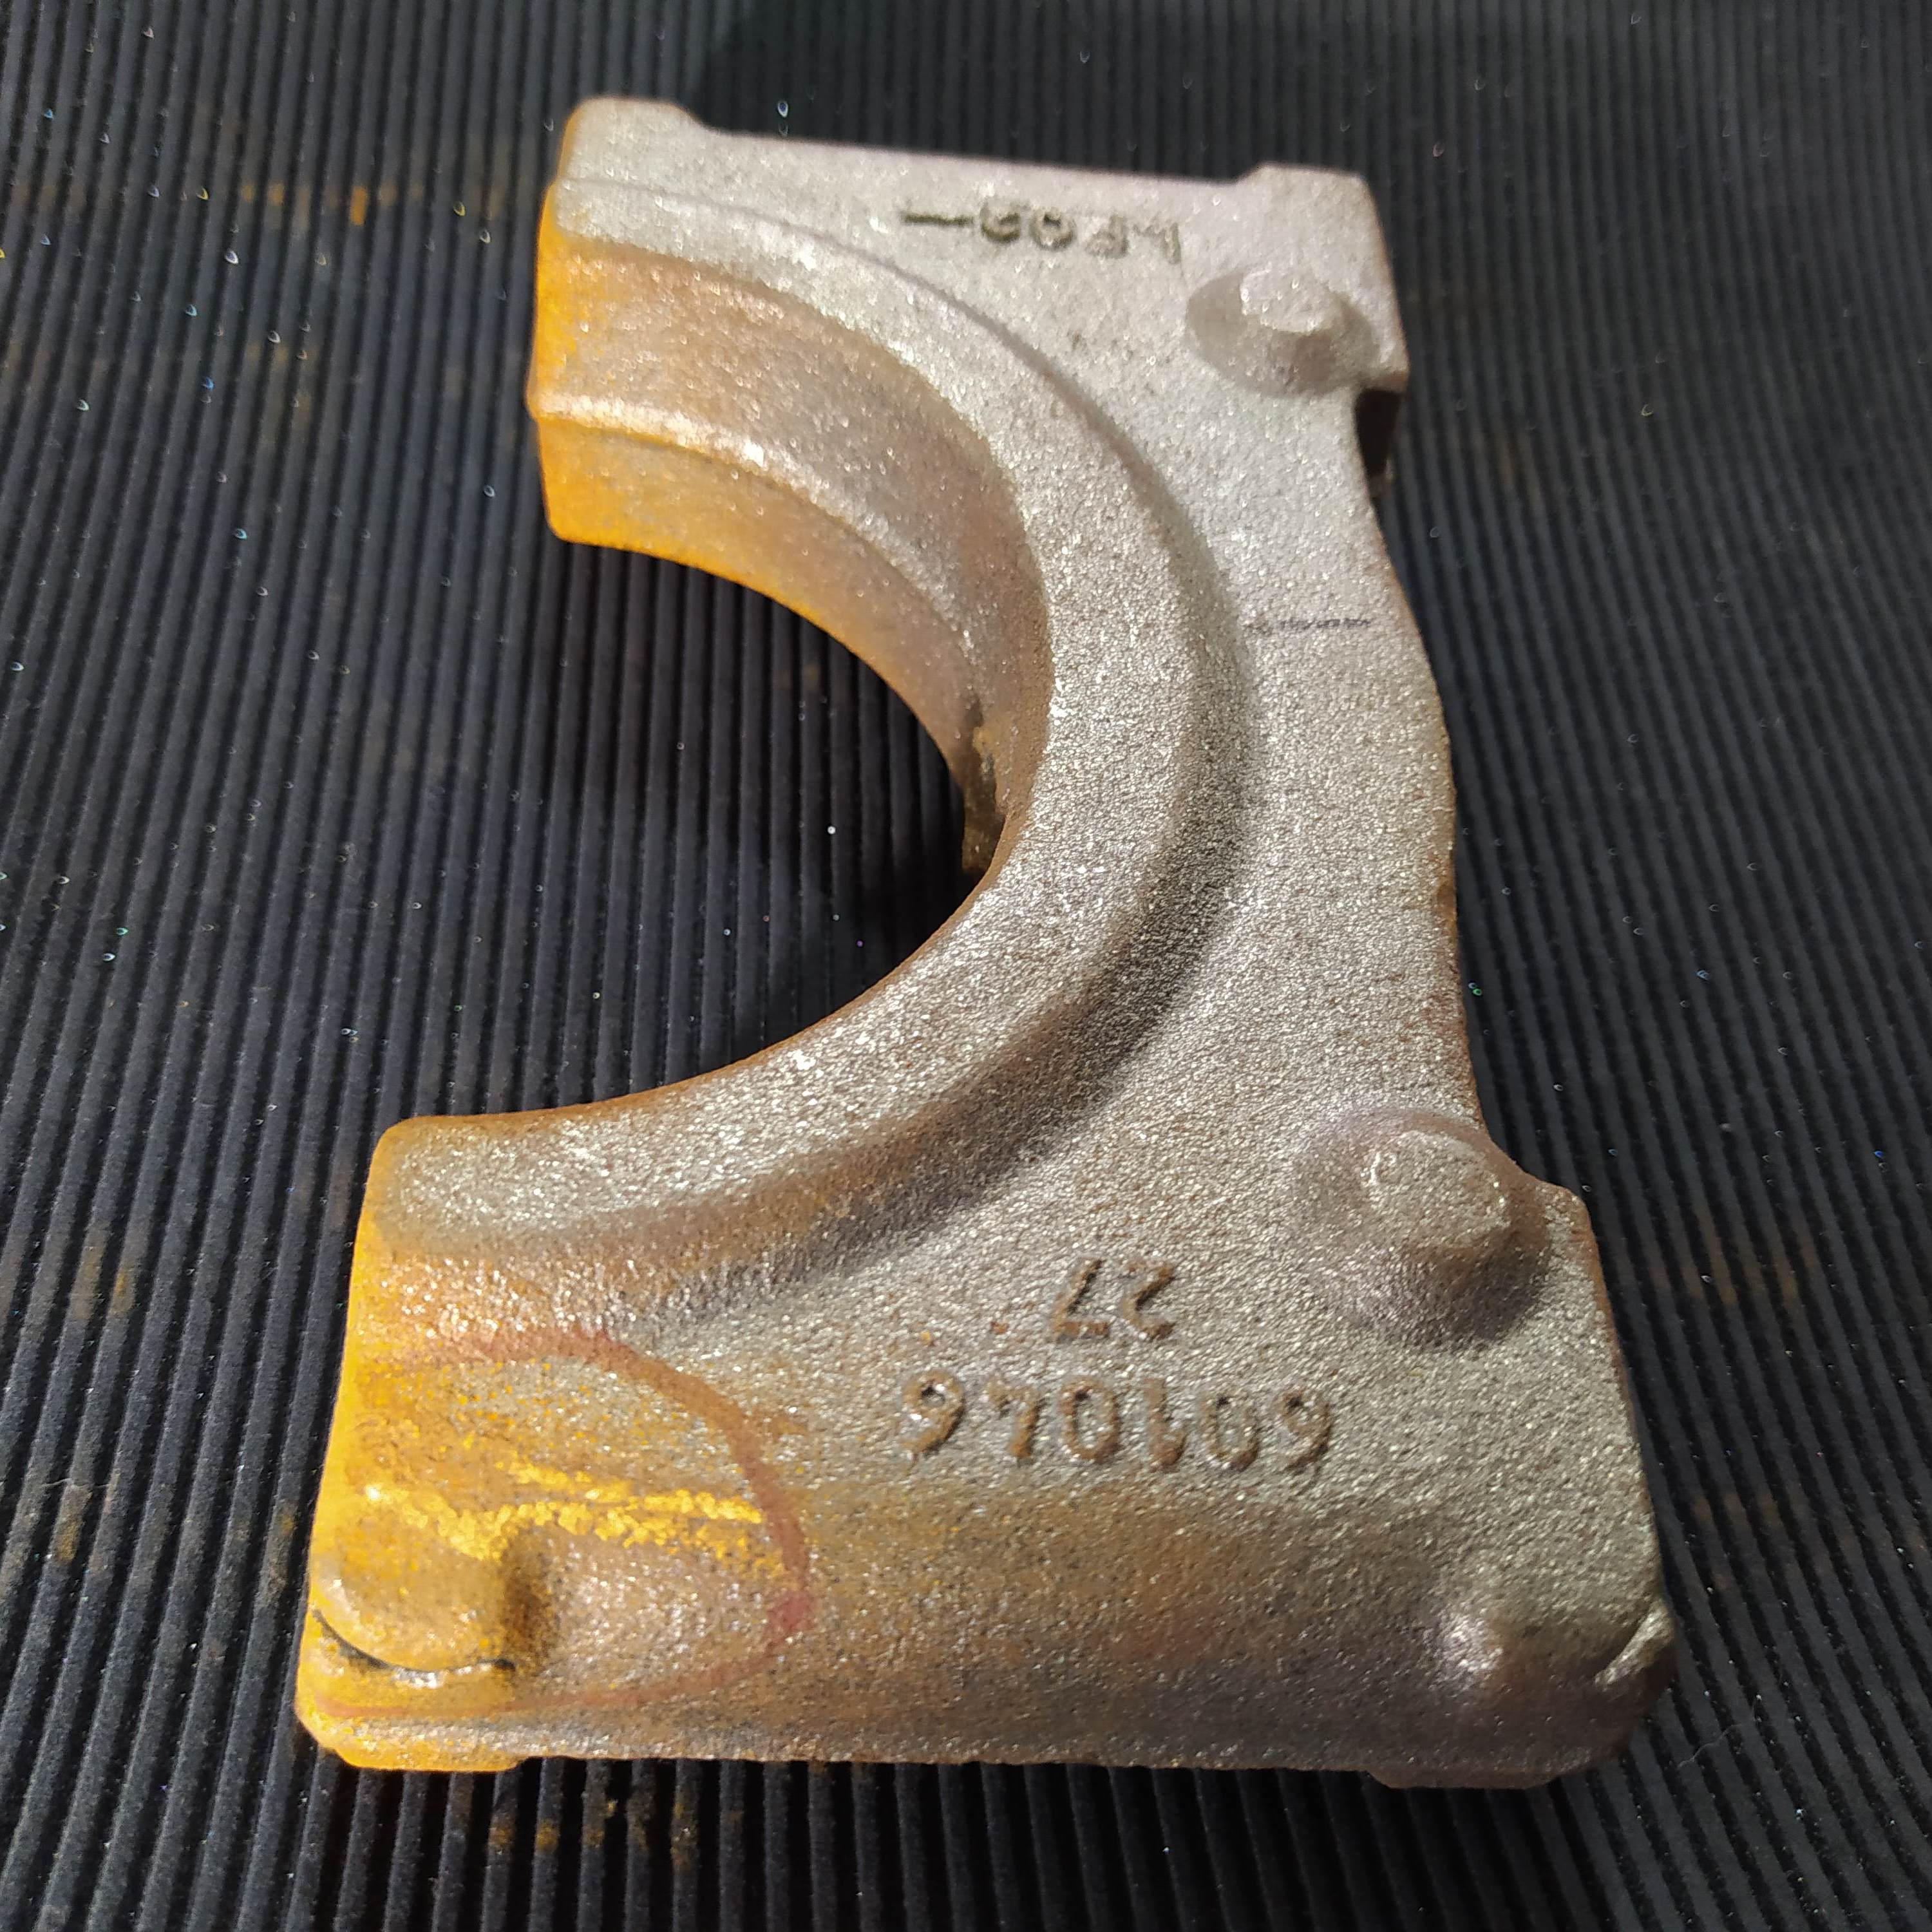rechupe: (306, 1605, 520, 1707), (1583, 1568, 1675, 1688)
